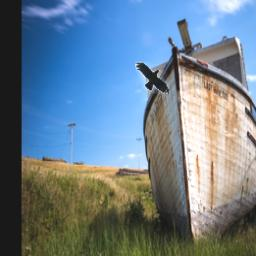Crow: (135, 63, 169, 95)
